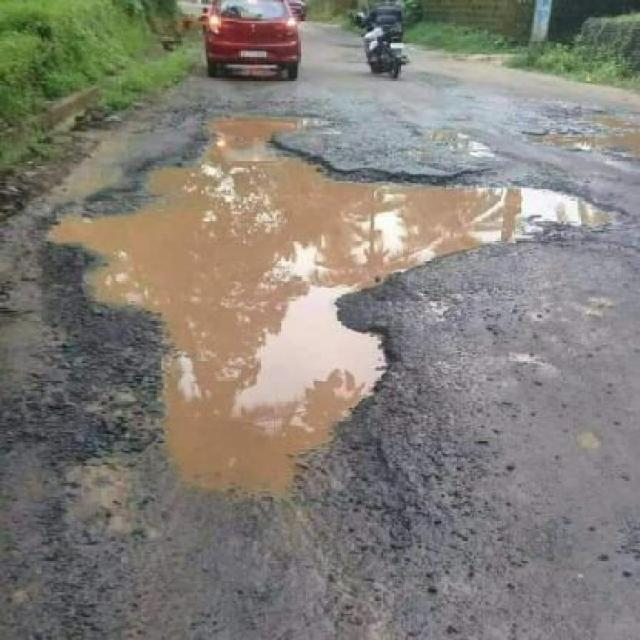pothole: (106, 95, 542, 514)
